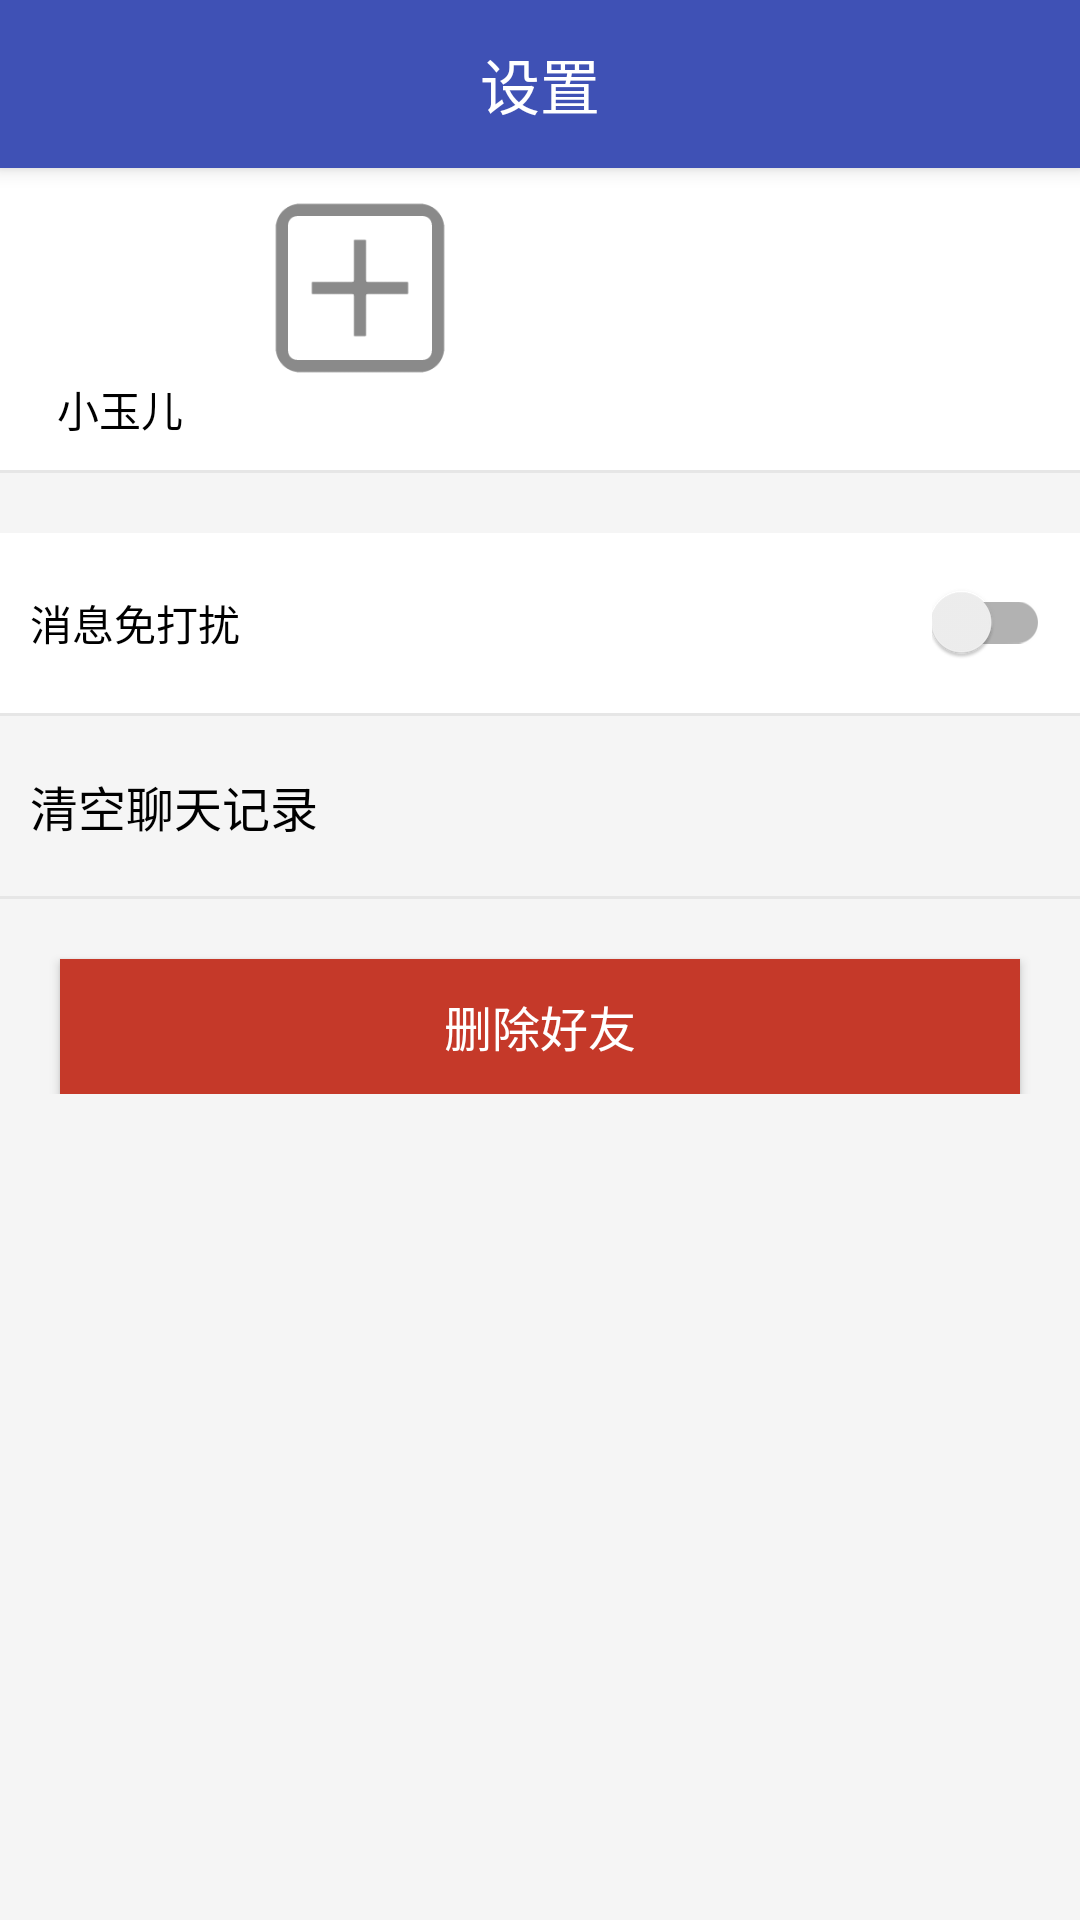

Icon bounding boxes for this 1080px×1920px phone screenshot, format rect(x1, y1, x2, y2):
add: rect(275, 203, 445, 373)
